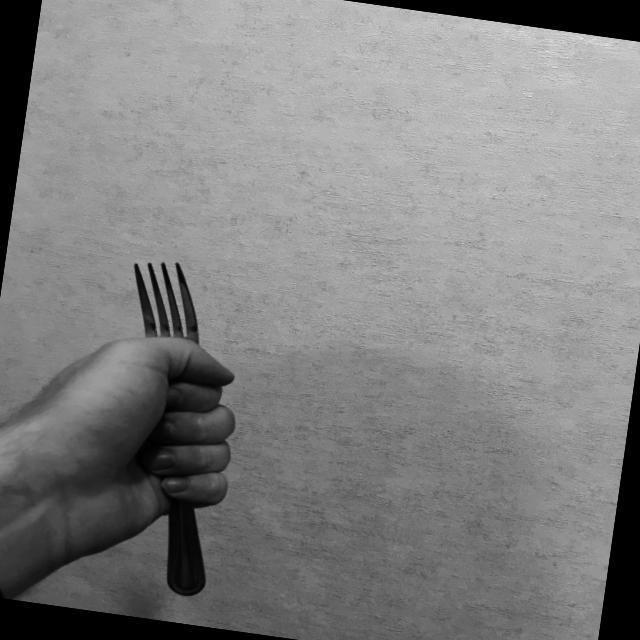fork: (83, 257, 253, 600)
